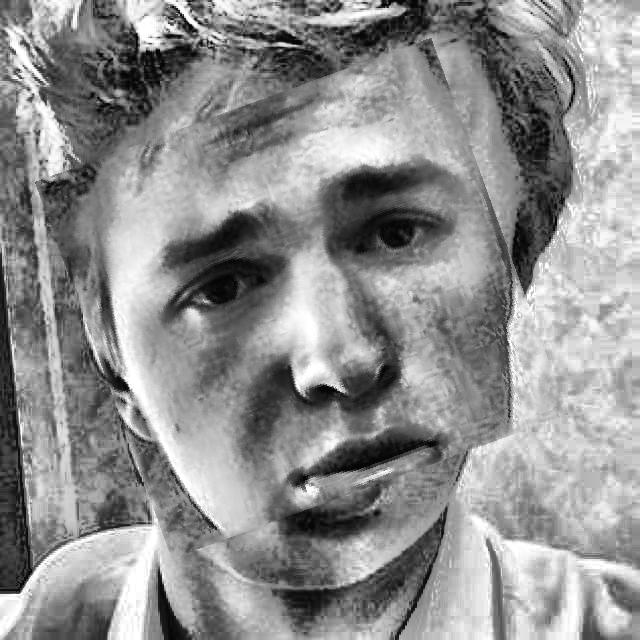sad: (63, 67, 541, 528)
